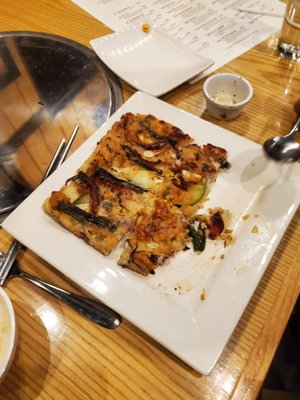burger: (41, 124, 80, 185)
pizza: (276, 0, 300, 62)
salad: (262, 95, 300, 163)
sushi: (202, 73, 253, 121)
